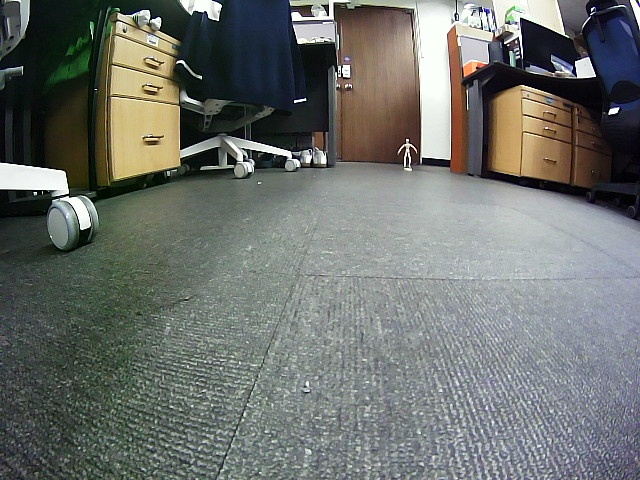person: (397, 139, 418, 167)
